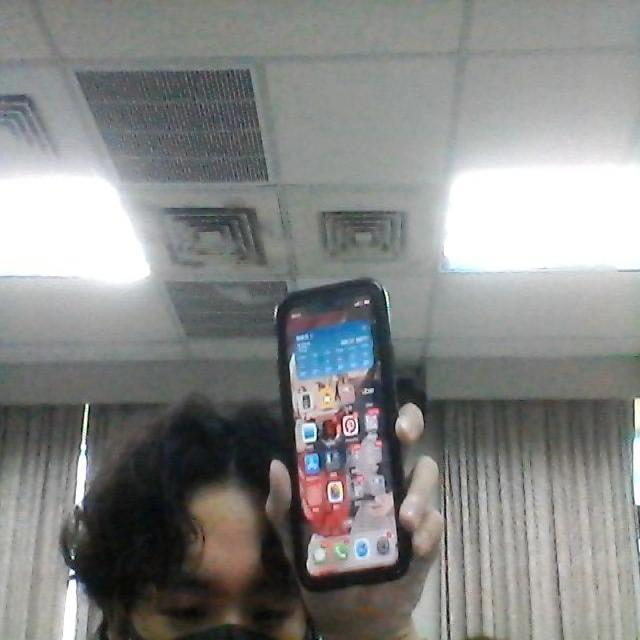Phone: (274, 272, 410, 588)
